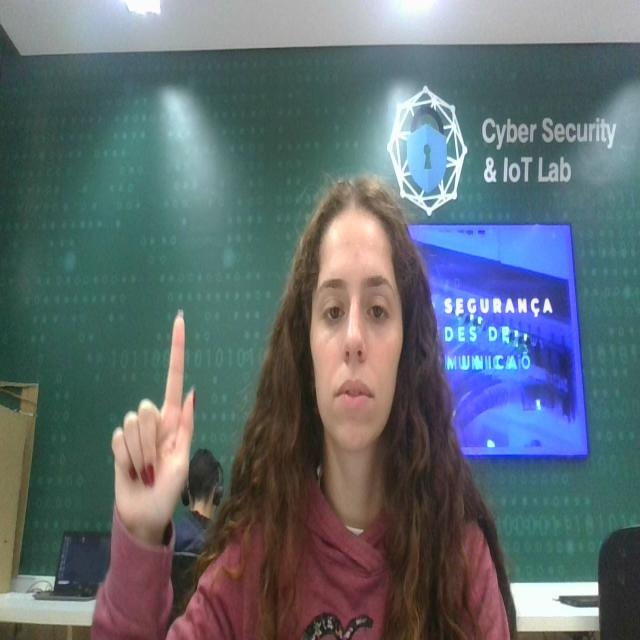G: (96, 280, 202, 551)
